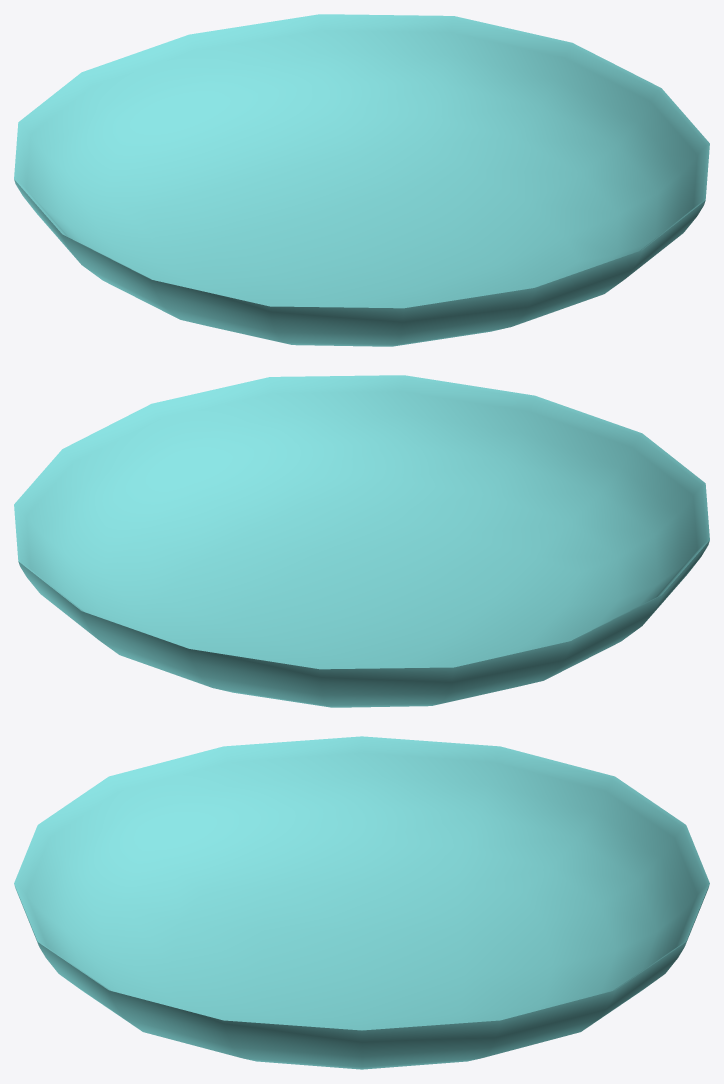
Rendered from plate.glb.
The picture shows the model from 3 angles, top to bottom: view 1: azimuth 30°, elevation 25°; view 2: azimuth 150°, elevation 25°; view 3: azimuth 270°, elevation 25°; orthographic projection.
Parts seen in each view (by area): view 1: plate; view 2: plate; view 3: plate.
Boxes of the visible parts, x1,y1,x2,y2 form: plate: [14, 14, 709, 346]; plate: [14, 375, 709, 707]; plate: [14, 736, 709, 1069].
Bounding box in the file's own units: 0.4385 × 0.0738 × 0.4385.
